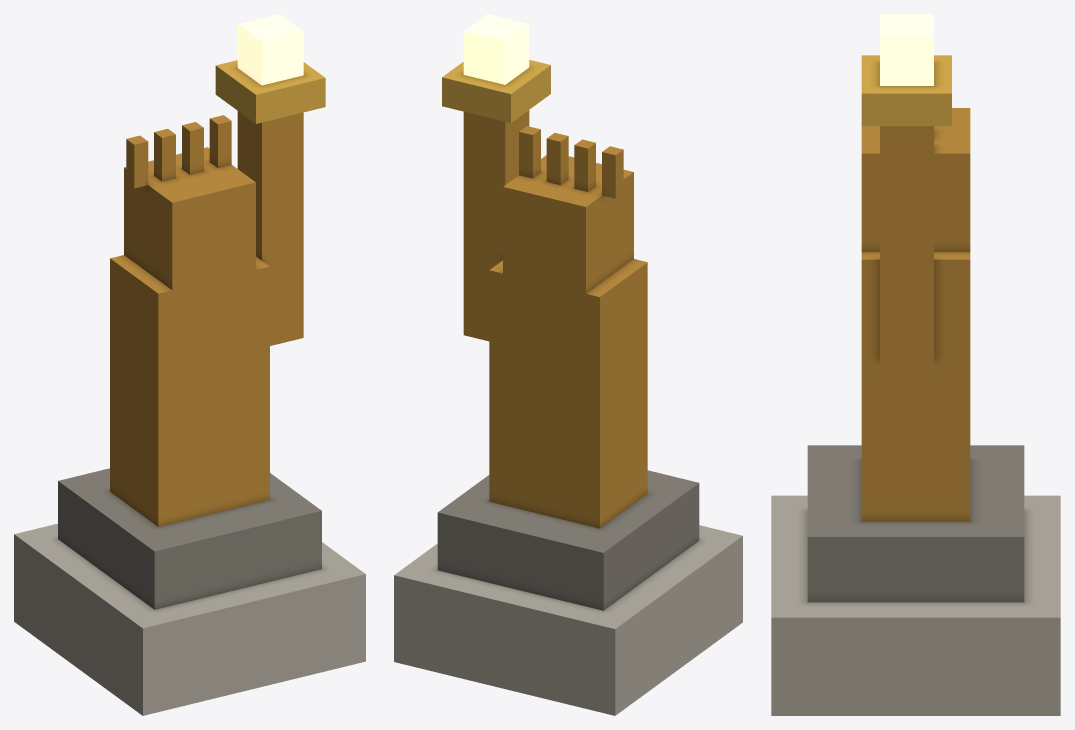
Rendered from w_colossus.glb.
3 views of the same model, side by side, from view 1: azimuth 30°, elevation 25°; view 2: azimuth 150°, elevation 25°; view 3: azimuth 270°, elevation 25° (orthographic). The views are drawn at different scales.
Parts seen in each view (by area): view 1: w_colossus_body; view 2: w_colossus_body; view 3: w_colossus_body.
Boxes of the visible parts, x1=… form: w_colossus_body: x1=14, y1=14, x2=365, y2=715; w_colossus_body: x1=394, y1=14, x2=742, y2=715; w_colossus_body: x1=771, y1=14, x2=1060, y2=715.
Bounding box in the file's own units: 1 × 2.56 × 1.
Materials: 1 (1 with a texture image).
